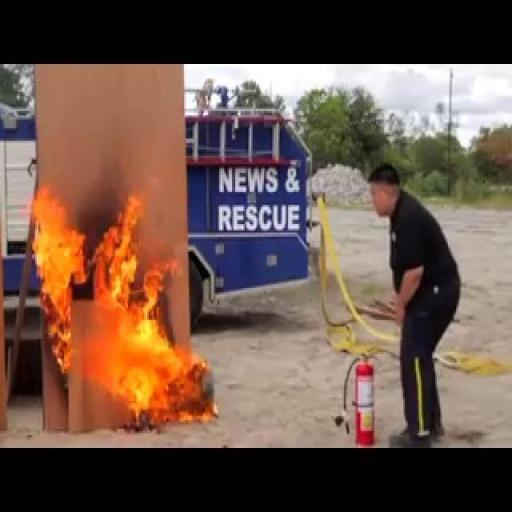smoke: (22, 148, 216, 434)
